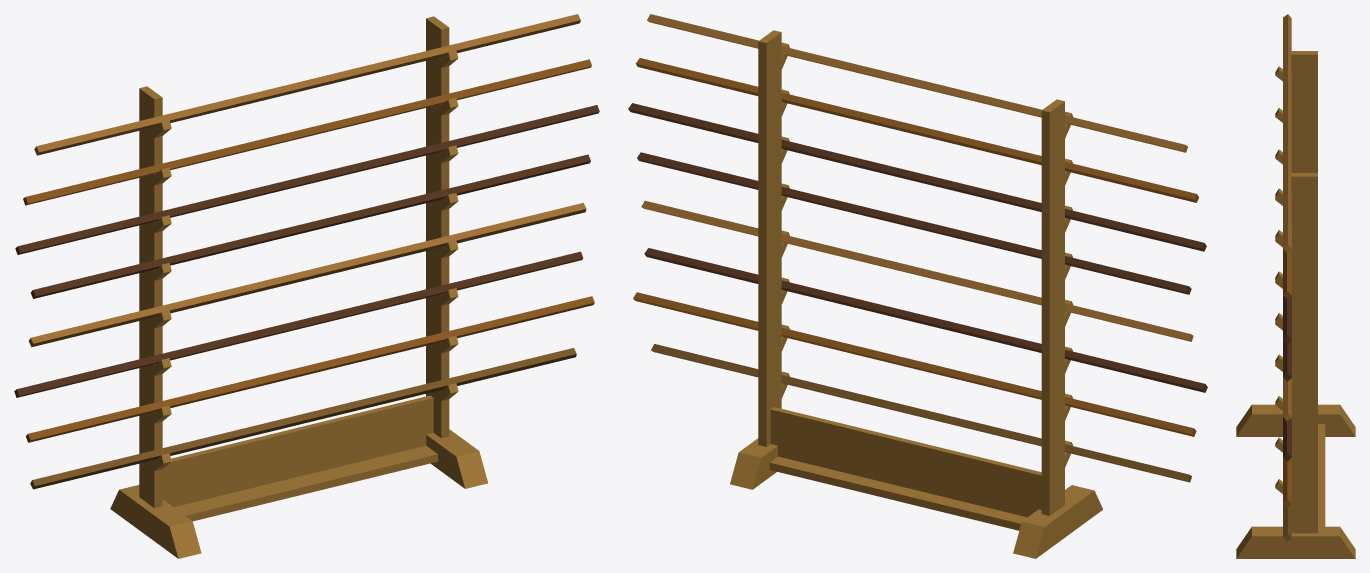
File: Prop_Dojo_WoodSwordHolder_C.fbx
The picture shows the model from 3 angles, left to right: view 1: azimuth 30°, elevation 25°; view 2: azimuth 150°, elevation 25°; view 3: azimuth 270°, elevation 25°; orthographic projection. The views are drawn at different scales.
Parts seen in each view (by area): view 1: Prop_Dojo_WoodSwordHolder_C; view 2: Prop_Dojo_WoodSwordHolder_C; view 3: Prop_Dojo_WoodSwordHolder_C.
Boxes of the visible parts, box(x1,y1,x2,y2) form: Prop_Dojo_WoodSwordHolder_C: box(14, 14, 599, 558); Prop_Dojo_WoodSwordHolder_C: box(628, 14, 1207, 558); Prop_Dojo_WoodSwordHolder_C: box(1236, 14, 1355, 558).
Size of the model in its own units: 175 by 125 by 35.53.
